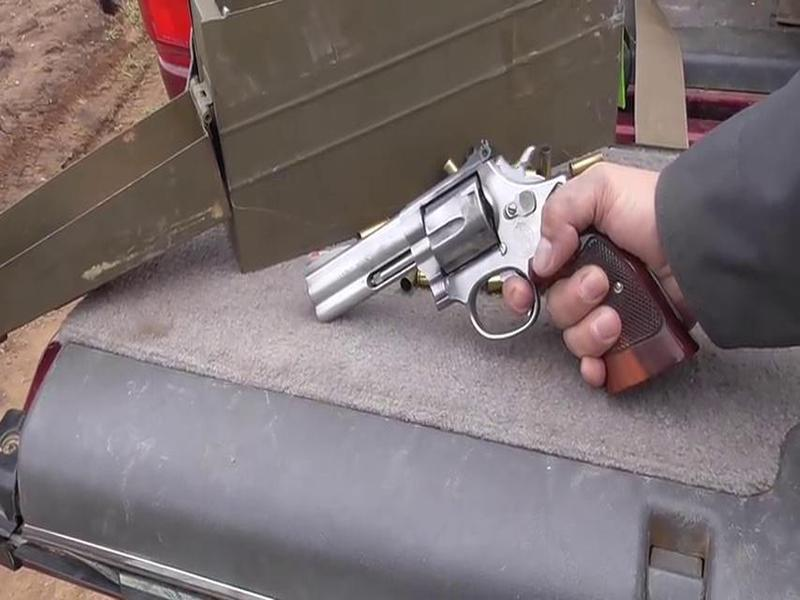Revolver: (283, 119, 671, 419)
